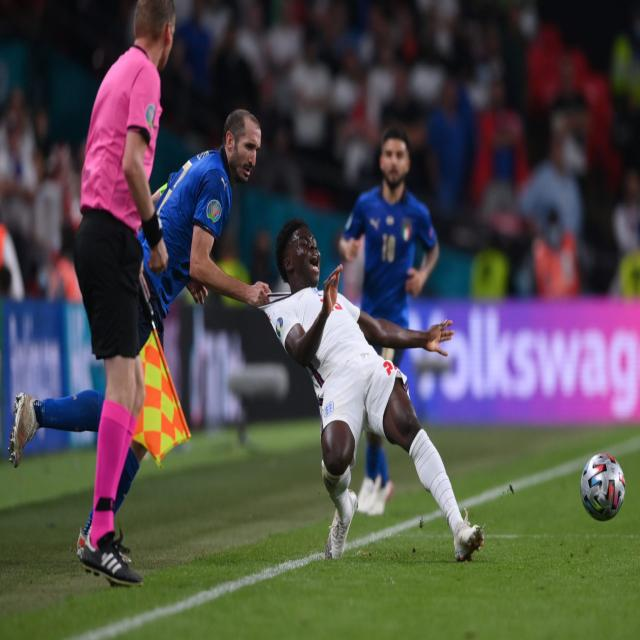collide: (256, 273, 280, 319)
hurt: (293, 228, 323, 280)
possible foul: (153, 76, 451, 568)
